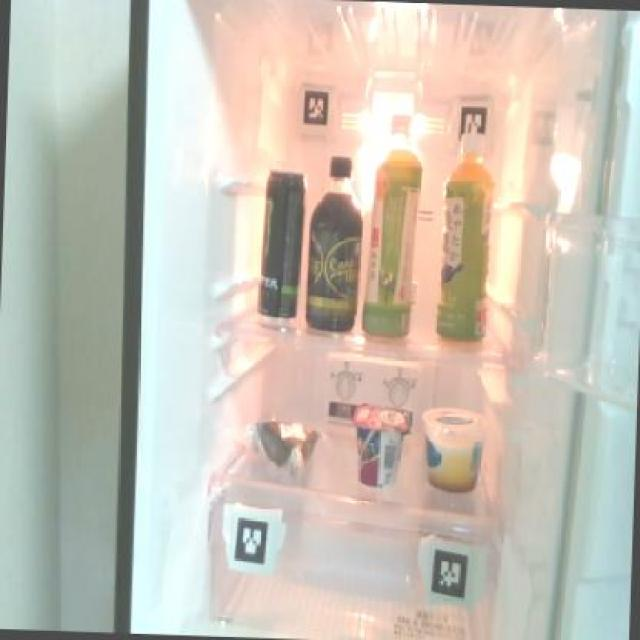coffee: (302, 149, 366, 334)
energy_drink: (256, 162, 309, 318)
pudding: (418, 403, 487, 492)
rice_ball: (245, 413, 321, 479)
tea_a: (432, 140, 496, 345)
tea_i: (360, 108, 425, 341)
yogurt: (350, 402, 405, 492)
